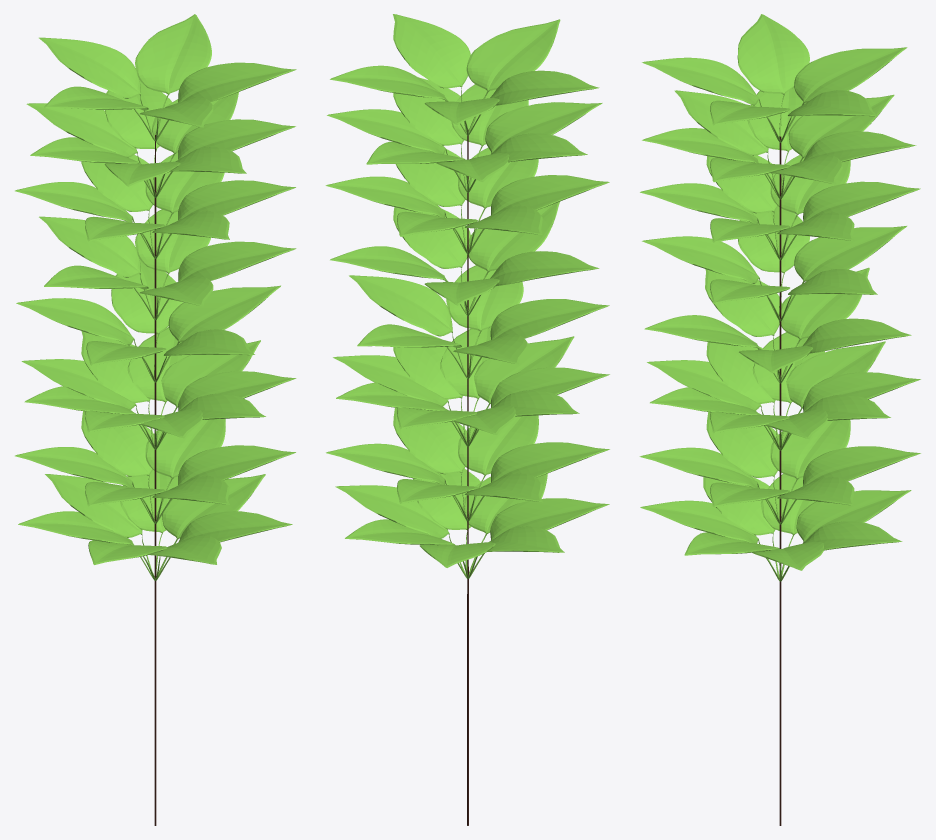
File: plant3.fbx
3 renders of one model, left to right at view 1: azimuth 30°, elevation 25°; view 2: azimuth 150°, elevation 25°; view 3: azimuth 270°, elevation 25°, orthographic.
Parts seen in each view (by area): view 1: Circle.029, Circle.027, Circle.024, Circle.031, Circle.030, Circle.028, Circle.025, Circle.026, plant3; view 2: Circle.029, Circle.027, Circle.024, Circle.030, Circle.031, Circle.025, Circle.028, Circle.026, plant3; view 3: Circle.029, Circle.027, Circle.024, Circle.030, Circle.031, Circle.026, Circle.025, Circle.028, plant3.
Boxes of the visible parts, x1,y1,x2,y2 form: Circle.029: (21,327,296,449); Circle.027: (39,14,296,141); Circle.024: (26,80,295,197); Circle.031: (18,470,292,580); Circle.030: (15,411,295,523); Circle.028: (16,259,280,382); Circle.025: (15,152,295,258); Circle.026: (39,209,296,320); plant3: (154,135,156,825); Circle.029: (333,327,609,446); Circle.027: (330,14,599,135); Circle.024: (327,77,602,192); Circle.030: (326,407,609,521); Circle.031: (335,468,609,578); Circle.025: (325,147,609,254); Circle.028: (349,265,609,378); Circle.026: (330,201,599,315); plant3: (467,129,468,825); Circle.029: (647,332,920,450); Circle.027: (642,14,907,142); Circle.024: (642,87,916,199); Circle.030: (639,412,920,524); Circle.031: (640,474,911,581); Circle.026: (642,206,906,321); Circle.025: (640,155,920,260); Circle.028: (644,267,911,383); plant3: (779,136,781,825).
Bounding box in the file's own units: 78.06 × 230 × 78.11.
